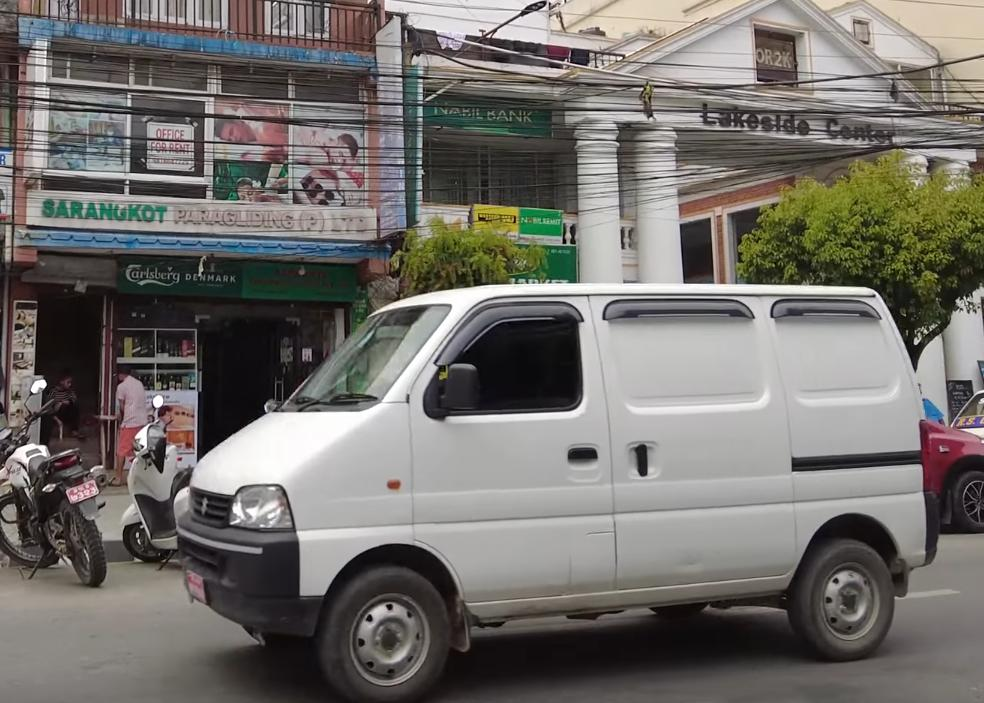bike: (0, 371, 116, 601)
scooter: (119, 383, 205, 572)
van: (162, 265, 938, 703)
